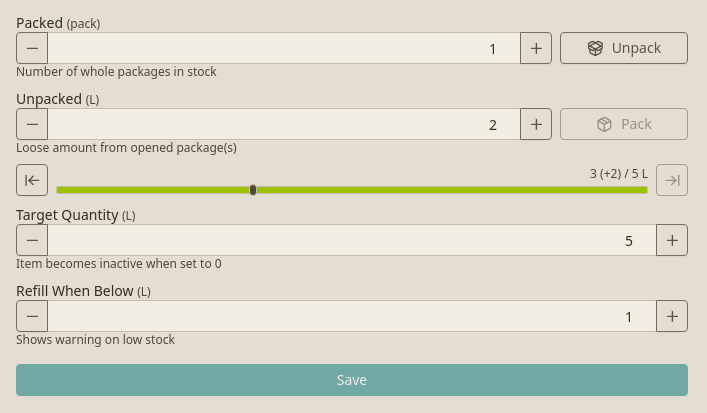
Test case: ItemForm — stock tab steppers step by the Constraint-4 increment › user steps Packed by 1 and Refill/Unpacked by consumeAmount in measurement mode
Step 1. Click the button named "Increase packed" → (536, 48), box [520, 32, 552, 64]
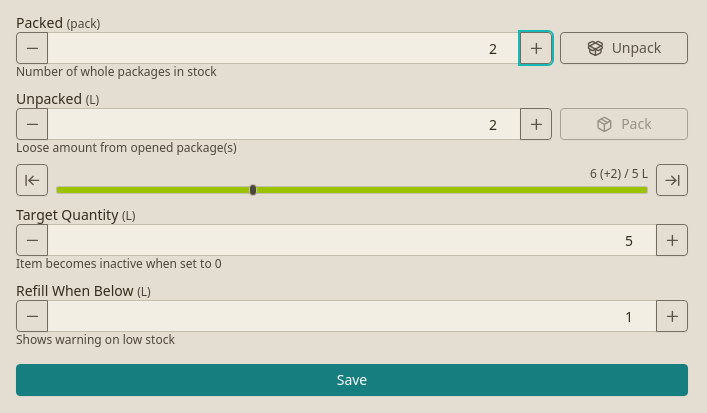
Now the number field labelled "Packed (pack)" holds "2", box [47, 32, 521, 64]
Step 2. Click the button named "Increase refill threshold" → (672, 316), box [656, 300, 688, 332]
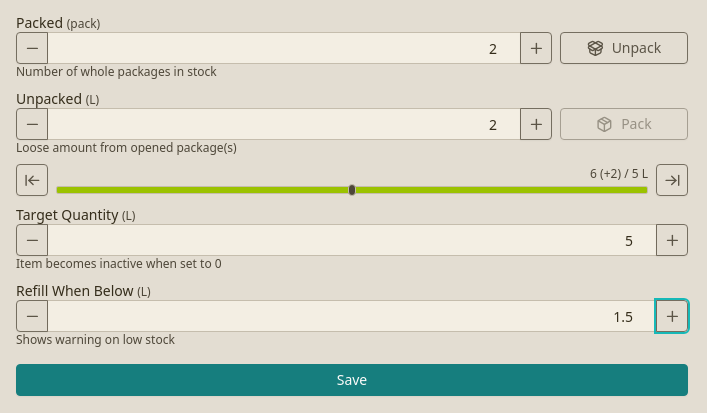
Now the number field labelled "Refill When Below (L)" holds "1.5", box [47, 300, 657, 332]
Step 3. Click the button named "Increase unpacked" → (536, 124), box [520, 108, 552, 140]
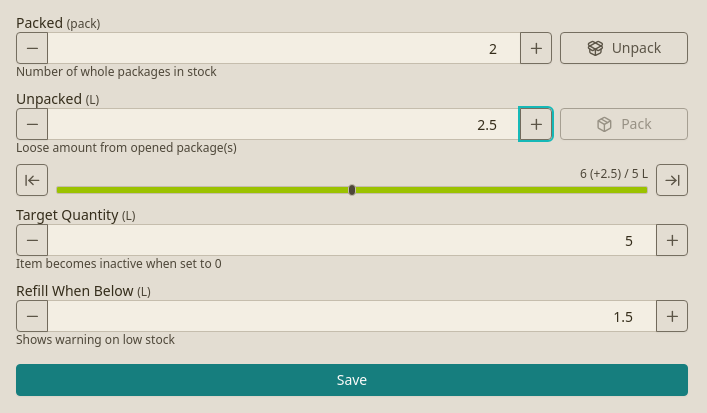
Now the number field labelled "Unpacked (L)" holds "2.5", box [47, 108, 521, 140]
